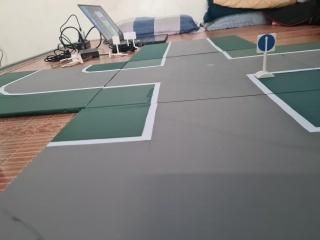straight: (255, 31, 277, 57)
